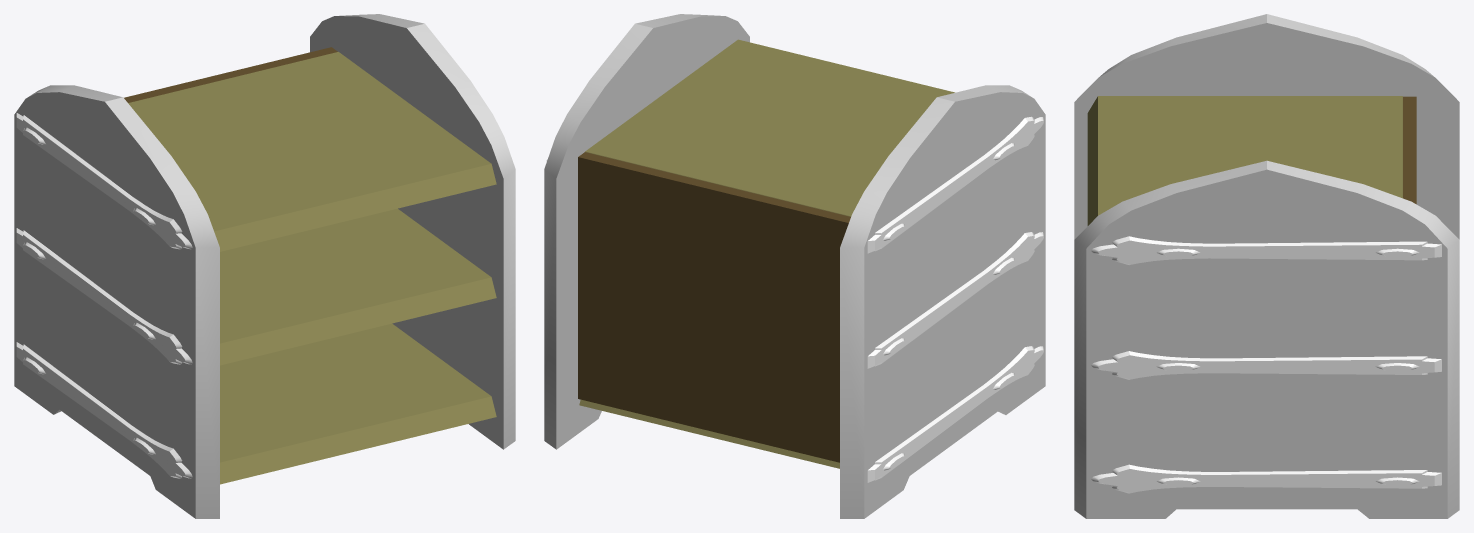
File: shelf_arch.glb
The picture shows the model from 3 angles, left to right: view 1: azimuth 30°, elevation 25°; view 2: azimuth 150°, elevation 25°; view 3: azimuth 270°, elevation 25°; orthographic projection.
Visible parts, largest first — view 1: Shelf_Arch; view 2: Shelf_Arch; view 3: Shelf_Arch.
Part boxes in pixels (x1,y1,x2,y2): Shelf_Arch: (14, 14, 515, 518); Shelf_Arch: (544, 14, 1045, 518); Shelf_Arch: (1074, 14, 1459, 518).
Size of the model in its own units: 1 by 1 by 1.
